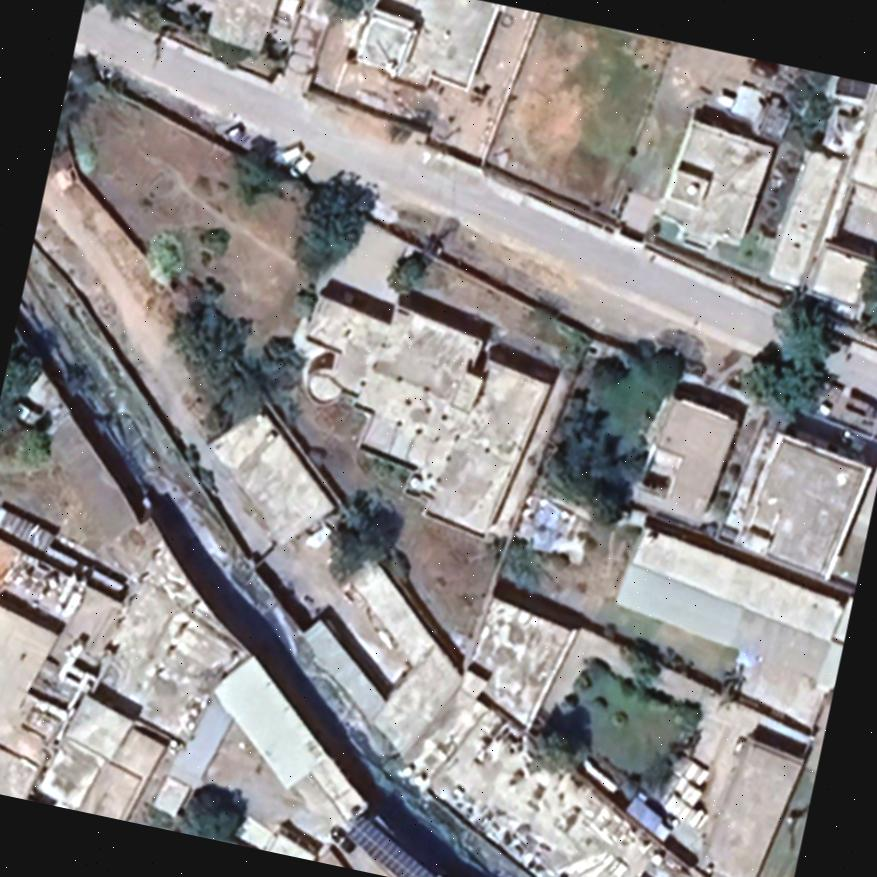Solarpanel: (341, 804, 442, 877)
